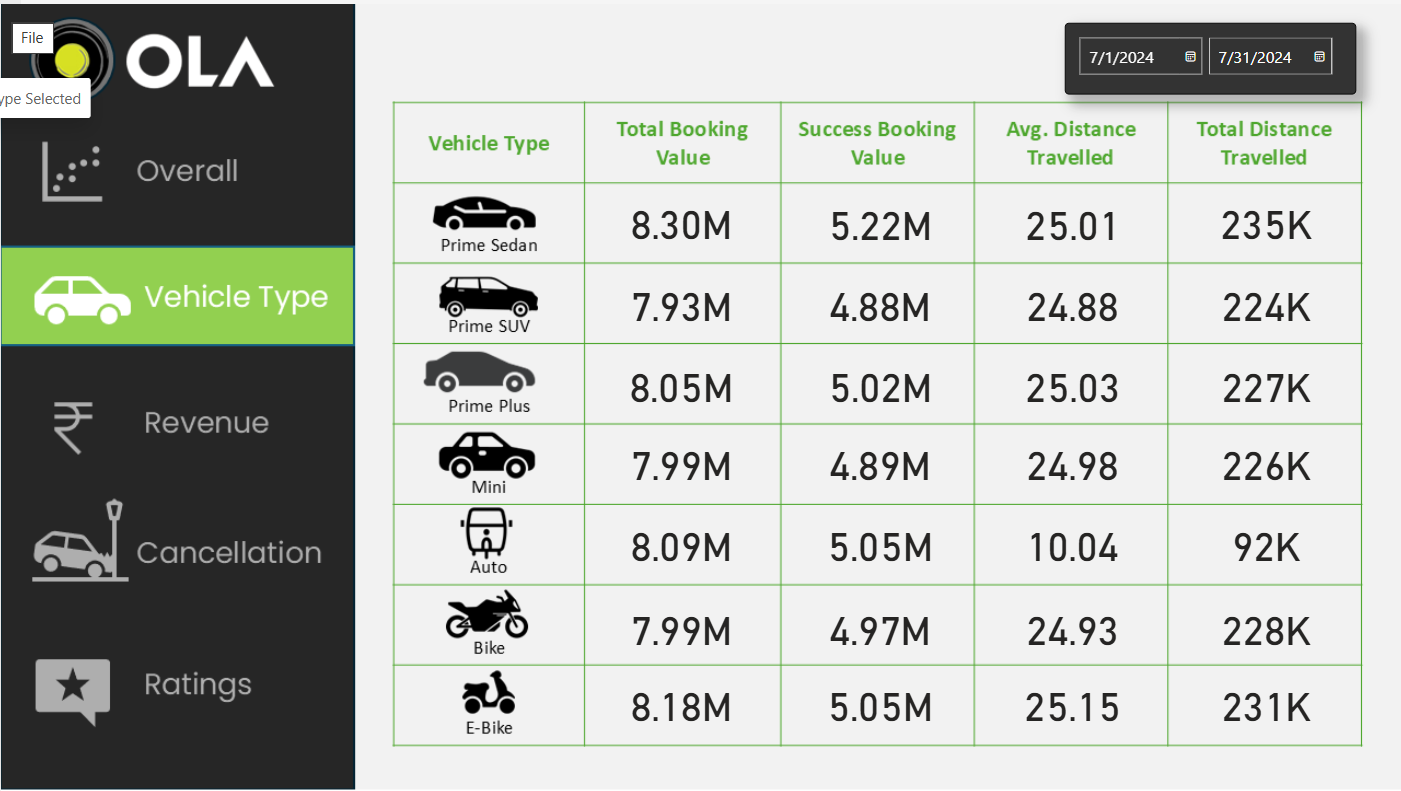

The page's visual inventory and layout, read from the dashboard file:
{"tool":"powerbi","page":{"name":"Vehicle Type","canvas":[1280,720],"ordinal":1},"visuals":[{"type":"actionButton","box":[0,338.3,323.8,87.1],"z":0},{"type":"actionButton","box":[0,450,323.8,87.1],"z":1000},{"type":"actionButton","box":[0,582.9,323.8,87.1],"z":2000},{"type":"actionButton","box":[0,446.4,323.8,96.4],"z":3000},{"type":"actionButton","box":[0,113.1,323.8,86.9],"z":4000},{"type":"actionButton","box":[0,336.1,323.8,87.1],"z":5000},{"type":"actionButton","box":[0,441.7,323.8,107.1],"z":6000},{"type":"actionButton","box":[0,445.2,323.8,96.4],"z":7000},{"type":"actionButton","box":[0,582.1,323.8,88.1],"z":8000},{"type":"actionButton","box":[0,337.7,323.2,87],"z":9000},{"type":"card","fields":{"Values":["Sum(July.Booking_Value)"]},"box":[539.1,166.7,165.2,63.8],"z":10000},{"type":"card","fields":{"Values":["Sum(July.Booking_Value)"]},"box":[539.1,242,165.2,63.8],"z":11000},{"type":"card","fields":{"Values":["Sum(July.Booking_Value)"]},"box":[539.1,315.9,165.2,63.8],"z":12000},{"type":"card","fields":{"Values":["Sum(July.Booking_Value)"]},"box":[539.1,387,165.2,63.8],"z":13000},{"type":"card","fields":{"Values":["Sum(July.Booking_Value)"]},"box":[539.1,460.9,165.2,63.8],"z":14000},{"type":"card","fields":{"Values":["Sum(July.Booking_Value)"]},"box":[539.1,537.7,165.2,63.8],"z":15000},{"type":"card","fields":{"Values":["Sum(July.Booking_Value)"]},"box":[539.1,607.2,165.2,63.8],"z":16000},{"type":"card","fields":{"Values":["Sum(July.Booking_Value)"]},"box":[720.3,168.1,165.2,63.8],"z":17000},{"type":"card","fields":{"Values":["Sum(July.Booking_Value)"]},"box":[720.3,242,165.2,63.8],"z":18000},{"type":"card","fields":{"Values":["Sum(July.Booking_Value)"]},"box":[720.3,315.9,165.2,63.8],"z":19000},{"type":"card","fields":{"Values":["Sum(July.Booking_Value)"]},"box":[720.3,387,165.2,63.8],"z":20000},{"type":"card","fields":{"Values":["Sum(July.Booking_Value)"]},"box":[720.3,460.9,165.2,63.8],"z":21000},{"type":"card","fields":{"Values":["Sum(July.Booking_Value)"]},"box":[720.3,537.7,165.2,63.8],"z":22000},{"type":"card","fields":{"Values":["Sum(July.Booking_Value)"]},"box":[720.3,607.2,165.2,63.8],"z":23000},{"type":"card","fields":{"Values":["Avg(July.Ride_Distance)"]},"box":[897.1,168.1,165.2,63.8],"z":24000},{"type":"card","fields":{"Values":["Avg(July.Ride_Distance)"]},"box":[897.1,242,165.2,63.8],"z":25000},{"type":"card","fields":{"Values":["Avg(July.Ride_Distance)"]},"box":[897.1,315.9,165.2,63.8],"z":26000},{"type":"card","fields":{"Values":["Avg(July.Ride_Distance)"]},"box":[897.1,387,165.2,63.8],"z":27000},{"type":"card","fields":{"Values":["Avg(July.Ride_Distance)"]},"box":[897.1,460.9,165.2,63.8],"z":28000},{"type":"card","fields":{"Values":["Avg(July.Ride_Distance)"]},"box":[897.1,537.7,165.2,63.8],"z":29000},{"type":"card","fields":{"Values":["Avg(July.Ride_Distance)"]},"box":[897.1,607.2,165.2,63.8],"z":30000},{"type":"card","fields":{"Values":["Sum(July.Ride_Distance)"]},"box":[1073.9,166.7,165.2,63.8],"z":31000},{"type":"card","fields":{"Values":["Sum(July.Ride_Distance)"]},"box":[1073.9,242,165.2,63.8],"z":32000},{"type":"card","fields":{"Values":["Sum(July.Ride_Distance)"]},"box":[1073.9,315.9,165.2,63.8],"z":33000},{"type":"card","fields":{"Values":["Sum(July.Ride_Distance)"]},"box":[1073.9,387,165.2,63.8],"z":34000},{"type":"card","fields":{"Values":["Sum(July.Ride_Distance)"]},"box":[1073.9,460.9,165.2,63.8],"z":35000},{"type":"card","fields":{"Values":["Sum(July.Ride_Distance)"]},"box":[1073.9,537.7,165.2,63.8],"z":36000},{"type":"card","fields":{"Values":["Sum(July.Ride_Distance)"]},"box":[1073.9,607.2,165.2,63.8],"z":37000},{"type":"slicer","title":"Date","fields":{"Values":["July.Date"]},"box":[972.5,17.4,266.7,65.2],"z":38000}]}

Visuals, with their boxes on the page's 1280x720 design canvas (x1, y1, x2, y2). These are canvas units, not pixel positions in the 1401x791 screenshot, which may show the page scaled, cropped or inside an application window:
actionButton: [x1=0, y1=338, x2=324, y2=425]
actionButton: [x1=0, y1=450, x2=324, y2=537]
actionButton: [x1=0, y1=583, x2=324, y2=670]
actionButton: [x1=0, y1=446, x2=324, y2=543]
actionButton: [x1=0, y1=113, x2=324, y2=200]
actionButton: [x1=0, y1=336, x2=324, y2=423]
actionButton: [x1=0, y1=442, x2=324, y2=549]
actionButton: [x1=0, y1=445, x2=324, y2=542]
actionButton: [x1=0, y1=582, x2=324, y2=670]
actionButton: [x1=0, y1=338, x2=323, y2=425]
card - Sum(July.Booking_Value): [x1=539, y1=167, x2=704, y2=230]
card - Sum(July.Booking_Value): [x1=539, y1=242, x2=704, y2=306]
card - Sum(July.Booking_Value): [x1=539, y1=316, x2=704, y2=380]
card - Sum(July.Booking_Value): [x1=539, y1=387, x2=704, y2=451]
card - Sum(July.Booking_Value): [x1=539, y1=461, x2=704, y2=525]
card - Sum(July.Booking_Value): [x1=539, y1=538, x2=704, y2=602]
card - Sum(July.Booking_Value): [x1=539, y1=607, x2=704, y2=671]
card - Sum(July.Booking_Value): [x1=720, y1=168, x2=886, y2=232]
card - Sum(July.Booking_Value): [x1=720, y1=242, x2=886, y2=306]
card - Sum(July.Booking_Value): [x1=720, y1=316, x2=886, y2=380]
card - Sum(July.Booking_Value): [x1=720, y1=387, x2=886, y2=451]
card - Sum(July.Booking_Value): [x1=720, y1=461, x2=886, y2=525]
card - Sum(July.Booking_Value): [x1=720, y1=538, x2=886, y2=602]
card - Sum(July.Booking_Value): [x1=720, y1=607, x2=886, y2=671]
card - Avg(July.Ride_Distance): [x1=897, y1=168, x2=1062, y2=232]
card - Avg(July.Ride_Distance): [x1=897, y1=242, x2=1062, y2=306]
card - Avg(July.Ride_Distance): [x1=897, y1=316, x2=1062, y2=380]
card - Avg(July.Ride_Distance): [x1=897, y1=387, x2=1062, y2=451]
card - Avg(July.Ride_Distance): [x1=897, y1=461, x2=1062, y2=525]
card - Avg(July.Ride_Distance): [x1=897, y1=538, x2=1062, y2=602]
card - Avg(July.Ride_Distance): [x1=897, y1=607, x2=1062, y2=671]
card - Sum(July.Ride_Distance): [x1=1074, y1=167, x2=1239, y2=230]
card - Sum(July.Ride_Distance): [x1=1074, y1=242, x2=1239, y2=306]
card - Sum(July.Ride_Distance): [x1=1074, y1=316, x2=1239, y2=380]
card - Sum(July.Ride_Distance): [x1=1074, y1=387, x2=1239, y2=451]
card - Sum(July.Ride_Distance): [x1=1074, y1=461, x2=1239, y2=525]
card - Sum(July.Ride_Distance): [x1=1074, y1=538, x2=1239, y2=602]
card - Sum(July.Ride_Distance): [x1=1074, y1=607, x2=1239, y2=671]
"Date" slicer: [x1=972, y1=17, x2=1239, y2=83]
